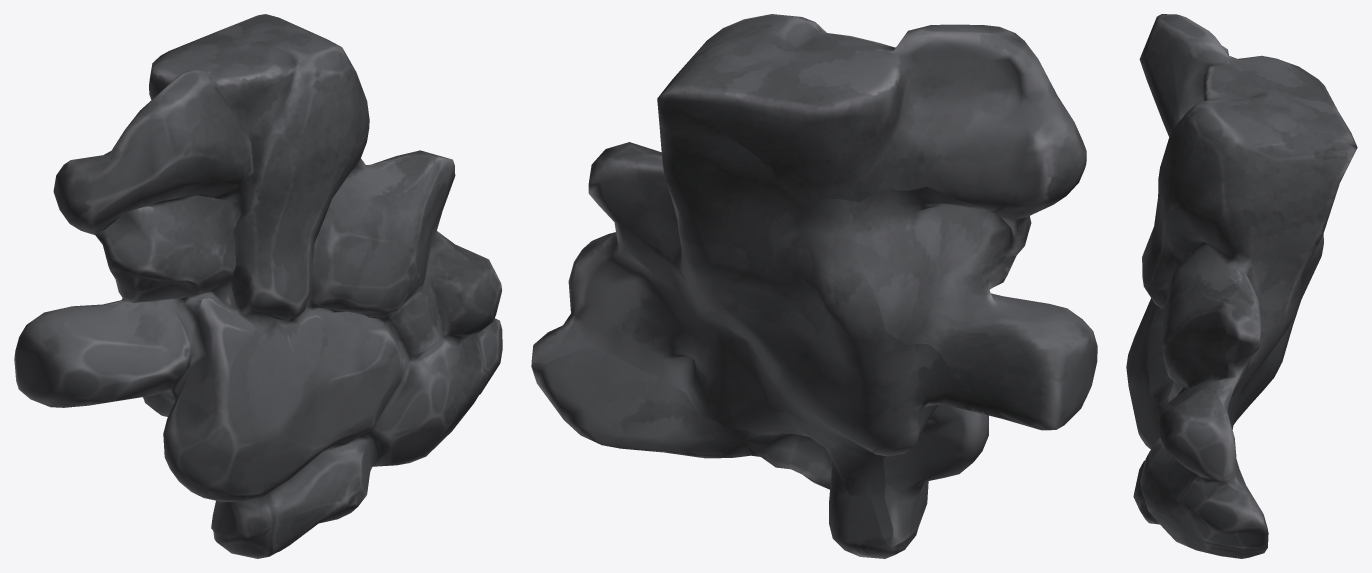
File: Stonewall02-2.fbx
The picture shows the model from 3 angles, left to right: view 1: azimuth 30°, elevation 25°; view 2: azimuth 150°, elevation 25°; view 3: azimuth 270°, elevation 25°; orthographic projection. The views are drawn at different scales.
Visible parts, largest first — view 1: Stonewall02_2; view 2: Stonewall02_2; view 3: Stonewall02_2.
Part boxes in pixels (x1=…): Stonewall02_2: x1=14, y1=14, x2=502, y2=558; Stonewall02_2: x1=531, y1=14, x2=1097, y2=558; Stonewall02_2: x1=1126, y1=14, x2=1357, y2=558.
Size of the model in its own units: 200 by 194 by 88.18.
1 material, 1 textured.
